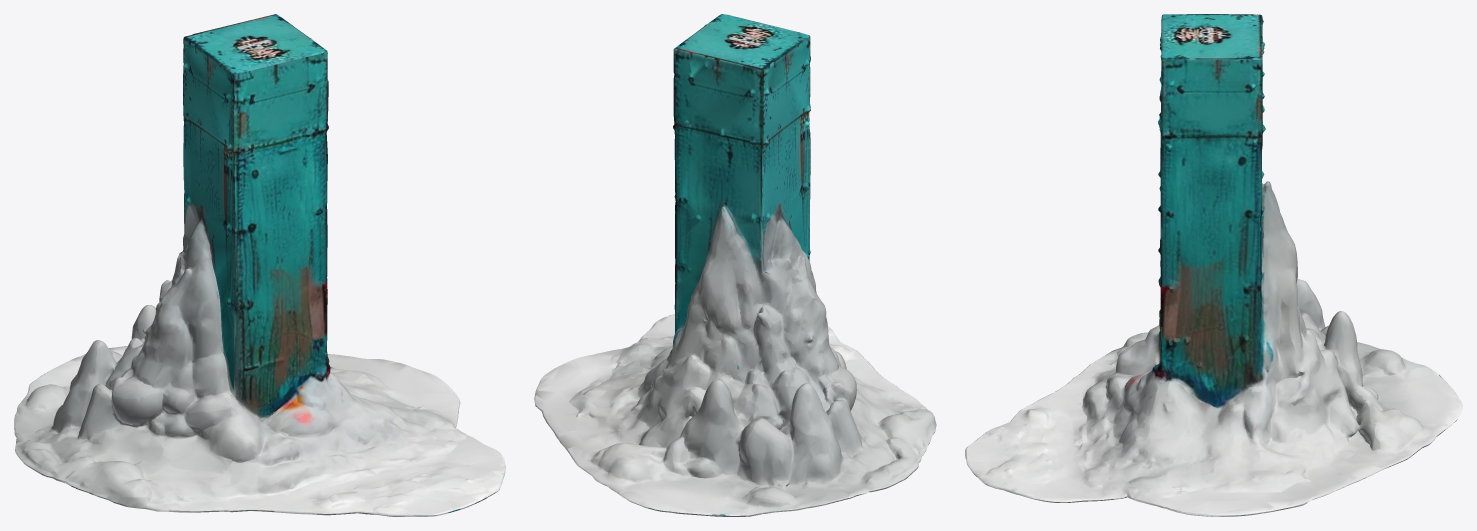
The model's file is weathered-monolith-pillar-generated-2026-04-18t22-01-36-007z-generated-2026-04-19T00-35-29-989Z.medium.glb.
The picture shows the model from 3 angles, left to right: view 1: azimuth 30°, elevation 25°; view 2: azimuth 150°, elevation 25°; view 3: azimuth 270°, elevation 25°; orthographic projection. The views are drawn at different scales.
Visible parts, largest first — view 1: temp_mesh.ply; view 2: temp_mesh.ply; view 3: temp_mesh.ply.
Part boxes in pixels (left/top/right/bottom): temp_mesh.ply: left=14, top=14, right=505, bottom=516; temp_mesh.ply: left=534, top=14, right=936, bottom=516; temp_mesh.ply: left=965, top=14, right=1462, bottom=516.
Bounding box in the file's own units: 1.79 × 1.7 × 1.97.
Materials: 1 (1 with a texture image).
